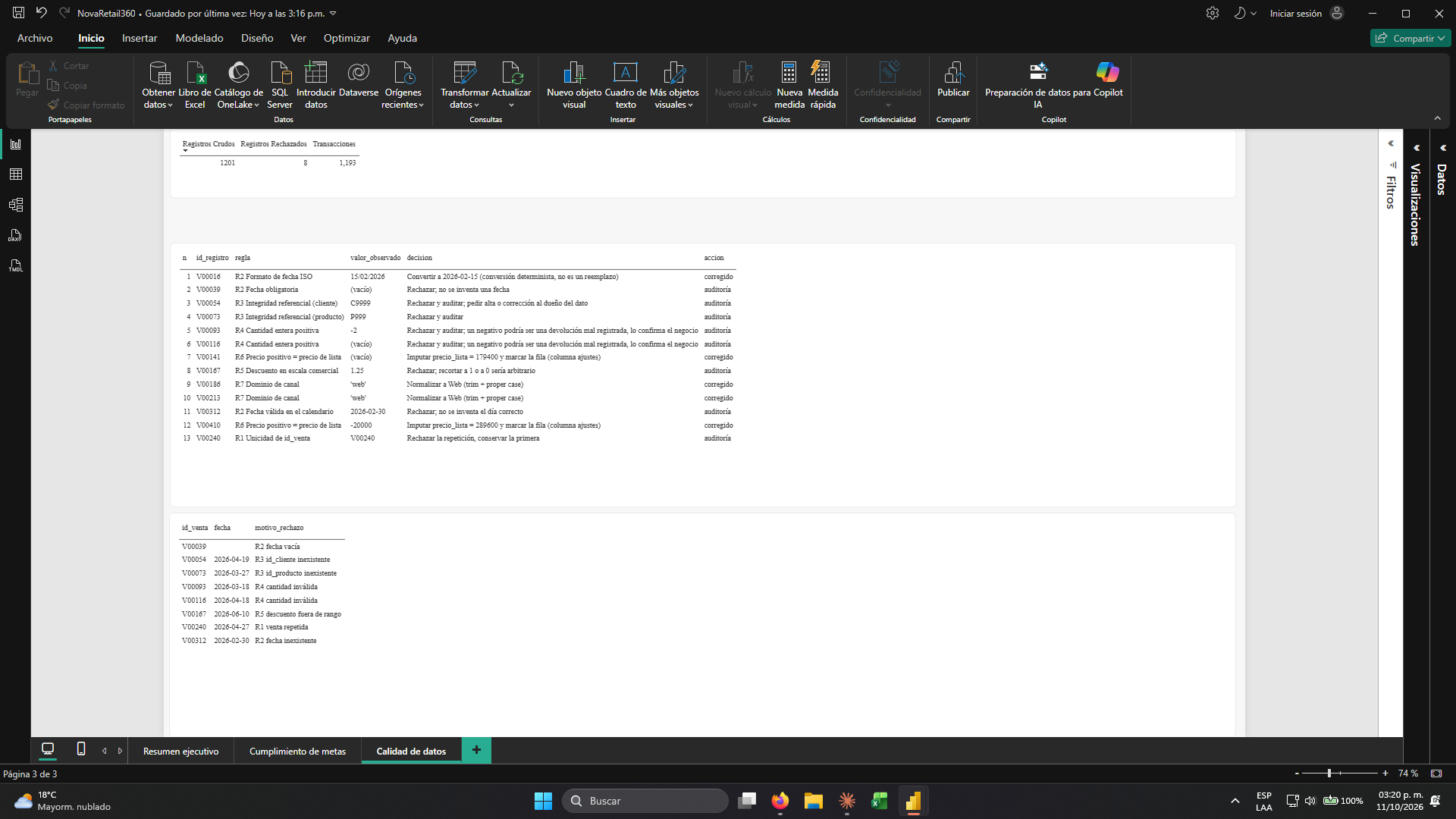

The dashboard page shown, as its layout file describes it:
{"tool":"powerbi","page":{"name":"Calidad de datos","canvas":[1920,1080],"ordinal":2},"visuals":[{"type":"tableEx","fields":{"Values":["ventas_limpias.Registros Crudos","ventas_limpias.Registros Rechazados","ventas_limpias.Transacciones"]},"box":[10.2,0,1893.7,122.6],"z":0},{"type":"tableEx","fields":{"Values":["bitacora_calidad.n","bitacora_calidad.id_registro","bitacora_calidad.regla","bitacora_calidad.valor_observado","bitacora_calidad.decision","bitacora_calidad.accion"]},"box":[10.2,201.3,1893.7,469.8],"z":1},{"type":"tableEx","fields":{"Values":["auditoria_rechazados.id_venta","auditoria_rechazados.fecha","auditoria_rechazados.motivo_rechazo"]},"box":[10,681,1894,399],"z":2}]}

Visuals, with their boxes on the page's 1920x1080 design canvas (x1, y1, x2, y2). These are canvas units, not pixel positions in the 1456x819 screenshot, which may show the page scaled, cropped or inside an application window:
tableEx - ventas_limpias.Registros Crudos x ventas_limpias.Registros Rechazados: bbox=[10, 0, 1904, 123]
tableEx - bitacora_calidad.n x bitacora_calidad.id_registro: bbox=[10, 201, 1904, 671]
tableEx - auditoria_rechazados.id_venta x auditoria_rechazados.fecha: bbox=[10, 681, 1904, 1080]
